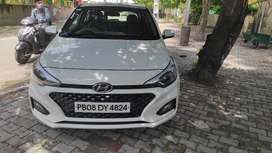PB08DY4824: (74, 102, 130, 112)
